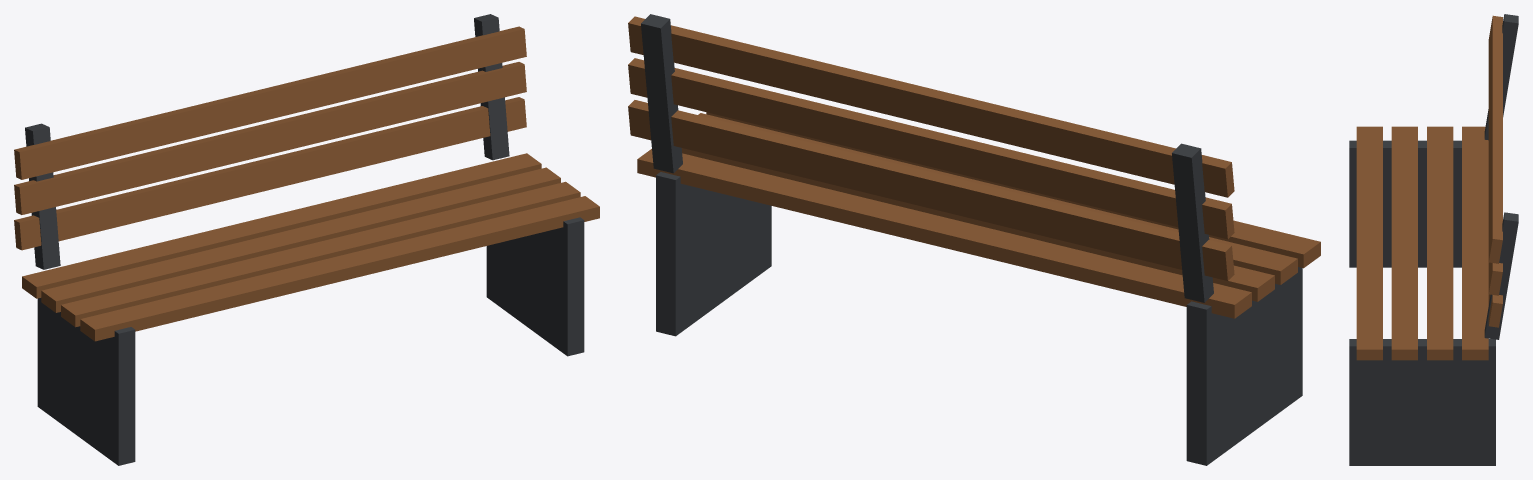
File: bench.glb
3 renders of one model, left to right at view 1: azimuth 30°, elevation 25°; view 2: azimuth 150°, elevation 25°; view 3: azimuth 270°, elevation 25°, orthographic. The views are drawn at different scales.
Visible parts, largest first — view 1: bench; view 2: bench; view 3: bench.
Part boxes in pixels (box(x1,y1,x2,y2)): bench: box(14, 14, 599, 465); bench: box(628, 14, 1320, 465); bench: box(1349, 14, 1518, 465).
Bounding box in the file's own units: 1.8 × 0.9262 × 0.5783.
